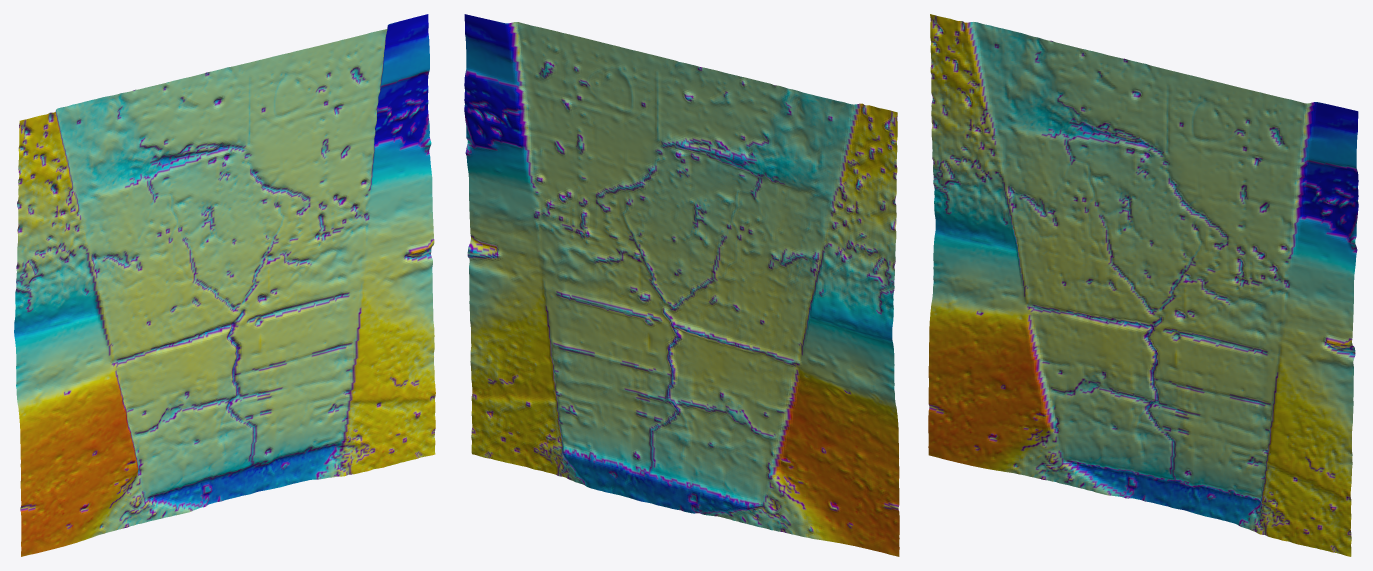
3 views of the same model, side by side, from view 1: azimuth 30°, elevation 25°; view 2: azimuth 150°, elevation 25°; view 3: azimuth 330°, elevation 25° (orthographic). The views are drawn at different scales.
Parts seen in each view (by area): view 1: world; view 2: world; view 3: world.
Boxes of the visible parts, box(x1,y1,x2,y2) form: world: box(14, 14, 435, 556); world: box(464, 14, 899, 556); world: box(928, 14, 1358, 556).
Bounding box in the file's own units: 299 × 299 × 12.
